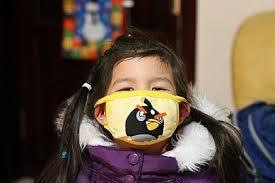OK: (110, 73, 179, 142)
